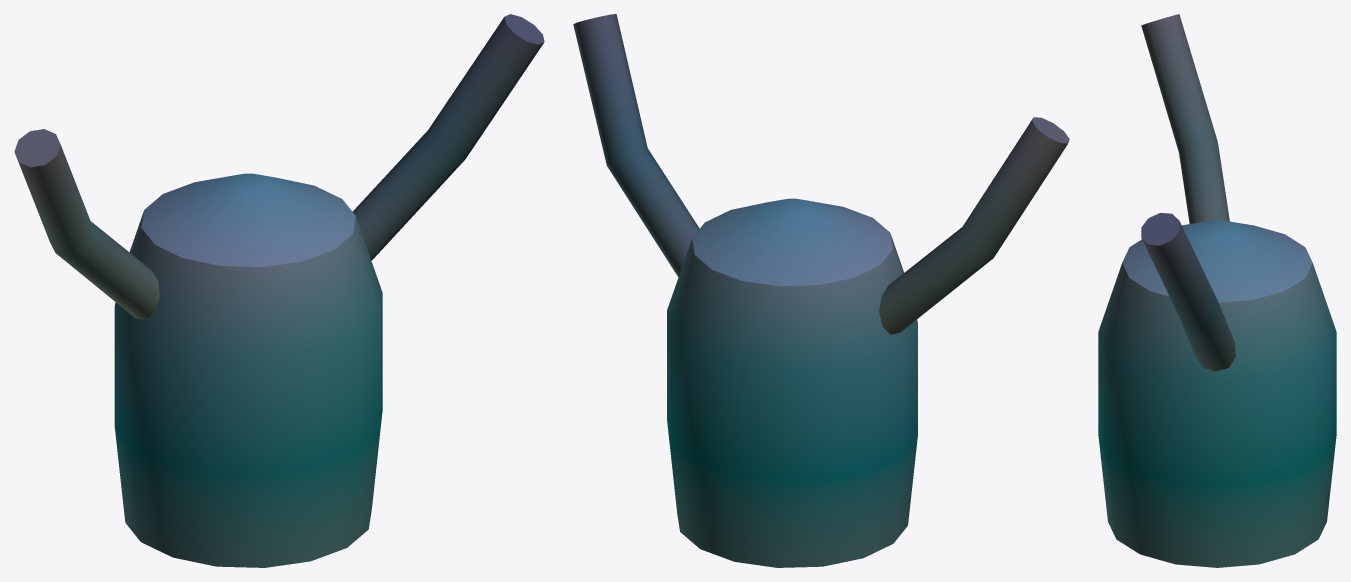
File: helm_ward.glb
3 views of the same model, side by side, from view 1: azimuth 30°, elevation 25°; view 2: azimuth 150°, elevation 25°; view 3: azimuth 270°, elevation 25° (orthographic). The views are drawn at different scales.
Parts seen in each view (by area): view 1: helm, horn.001, horn; view 2: helm, horn, horn.001; view 3: helm, horn, horn.001.
Part boxes in pixels (x1,y1,x2,y2): helm: (114,173,382,567); horn.001: (352,14,544,260); horn: (14,129,159,319); helm: (667,198,917,567); horn: (879,117,1069,334); horn.001: (573,14,699,276); helm: (1098,220,1336,567); horn: (1141,14,1229,223); horn.001: (1141,213,1235,371).
Bounding box in the file's own units: 0.5594 × 0.4713 × 0.25.
